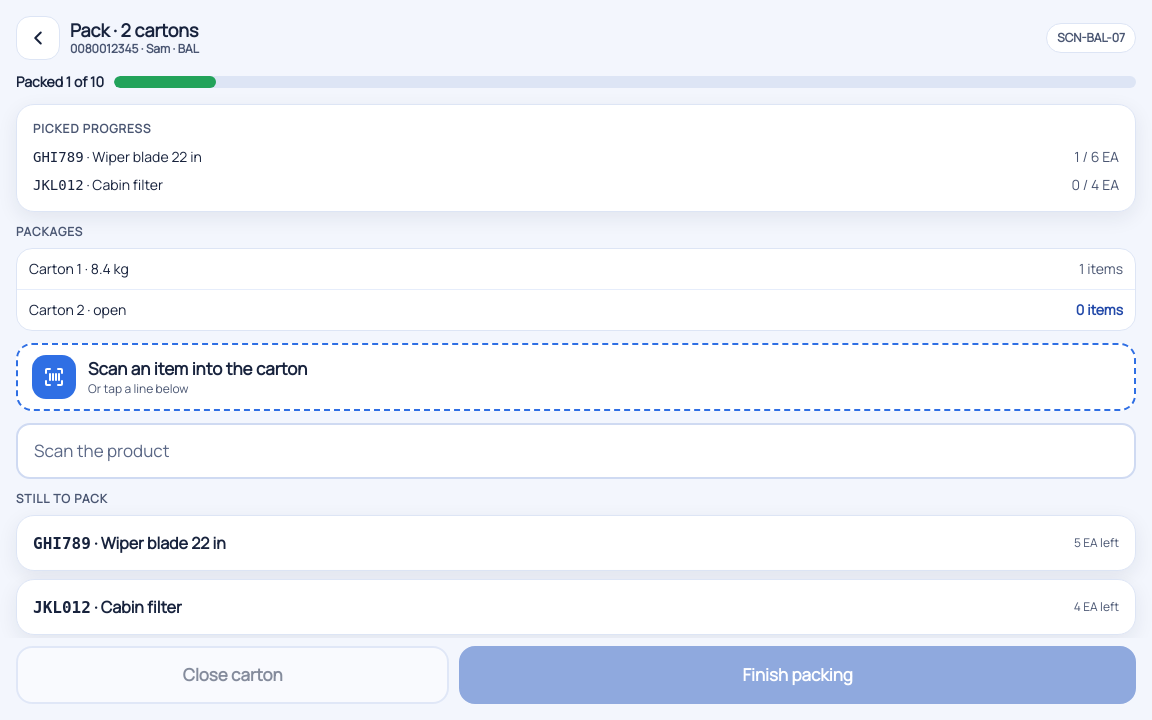
Test: Pack › builds a carton from the picked lines and finishes the packing
Expected: the text "Packed 1 of 10" is shown, [16,72,104,92]
Expected: the text "0080012345" is shown, [70,41,138,57]
Note: tap a line to put one in the carton, then set the quantity
Click the button "GHI789 · Wiper blade 22 in 5 EA left" at (62, 543), box [16,515,1136,571]
(page scrolled)
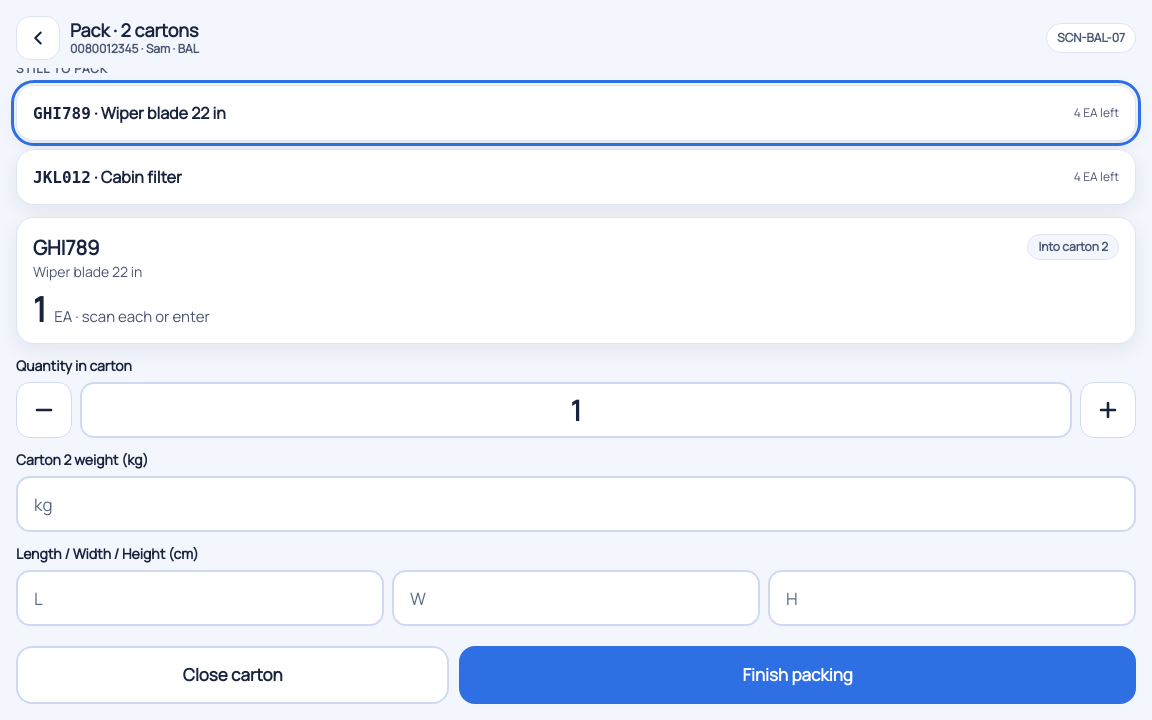
Now the text "Into carton 2" is shown, box [1027,234,1119,260]
Replace the text in the number field with "5" at (576, 410), box [80,382,1072,438]
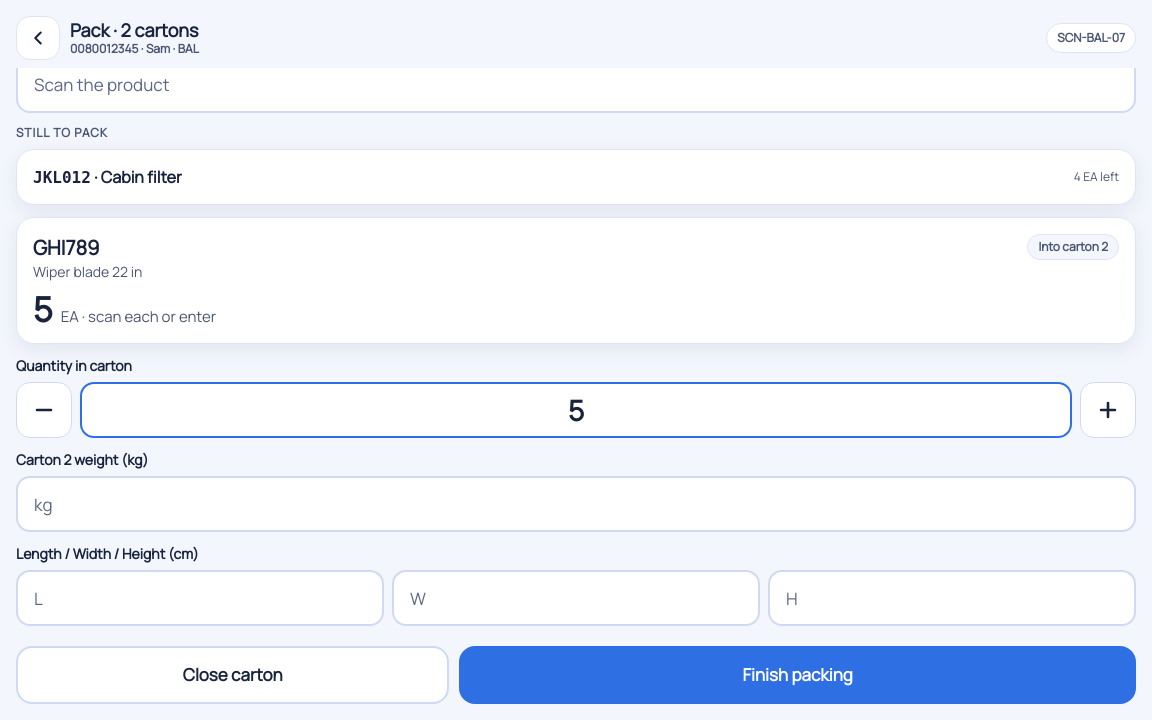
Click the button "JKL012 · Cabin filter 4 EA left" at (62, 177), box [16,149,1136,205]
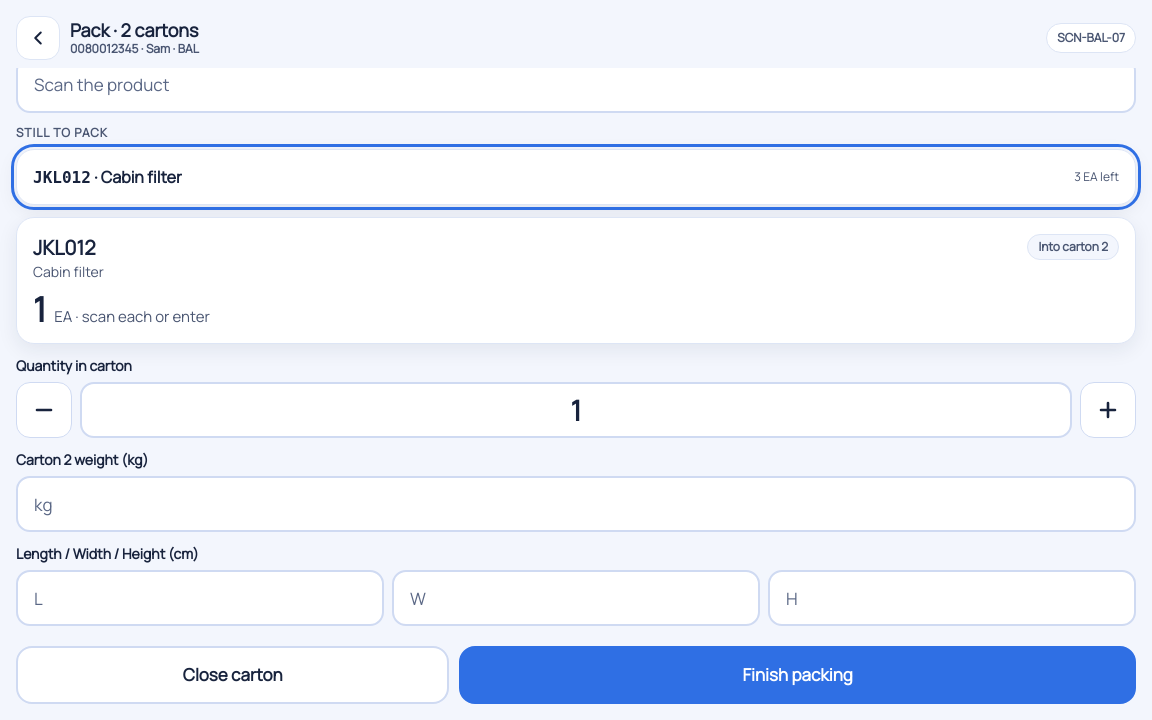
Replace the text in the number field with "4" at (576, 410), box [80,382,1072,438]
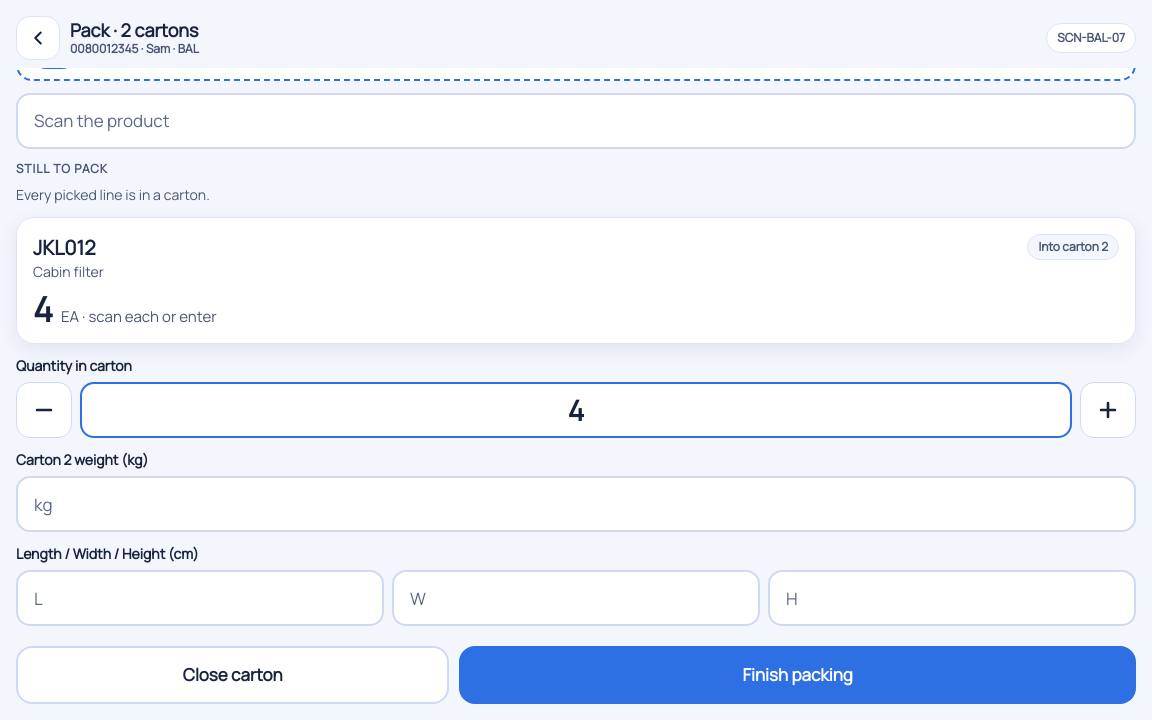
Type "3.1" into the field labelled "weight (kg)" at (576, 504), box [16,476,1136,532]
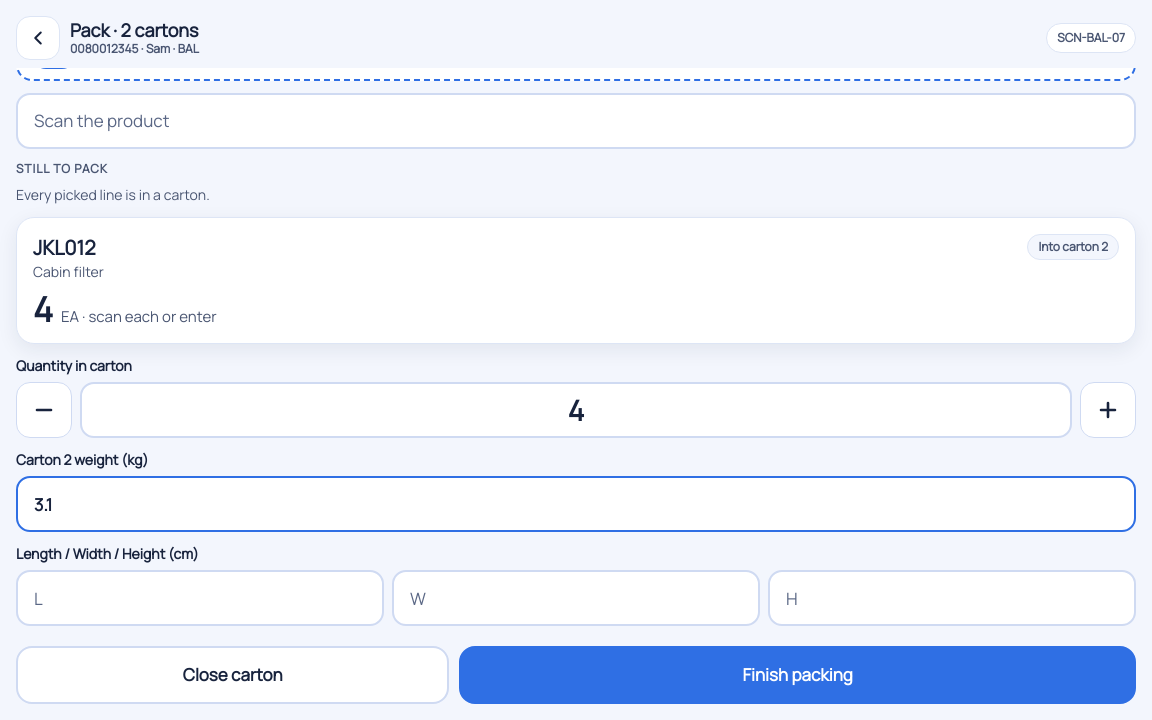
Click the button "Finish packing" at (798, 675), box [459,646,1136,704]
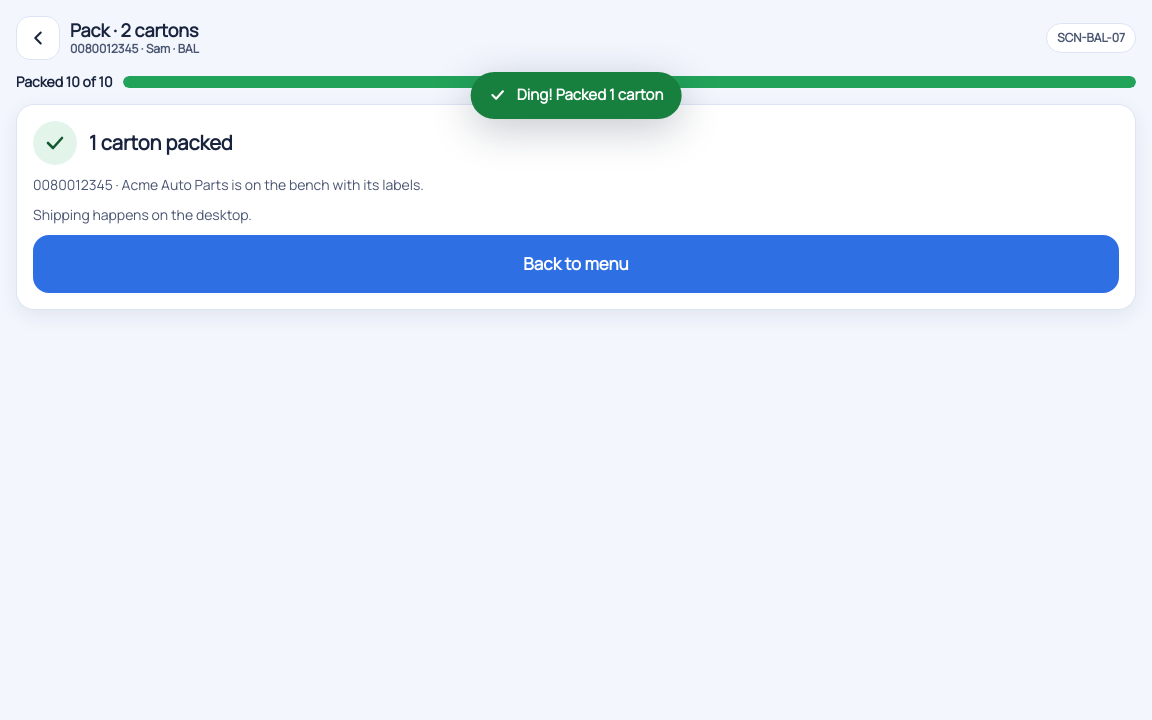
Now the text "1 carton packed" is shown, box [89,129,233,157]
Now the text "Shipping happens on the desktop." is shown, box [33,205,252,224]
